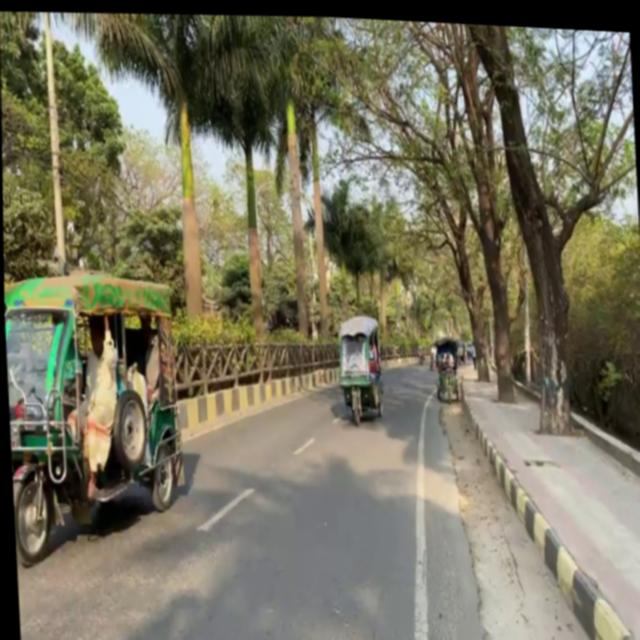Fallen-tree: (427, 330, 460, 399), (416, 342, 424, 359)
Light-pole: (40, 11, 66, 274), (283, 92, 309, 335)
Pothole: (454, 361, 640, 640)
Traffic-cone: (3, 261, 188, 571), (333, 309, 384, 423)
